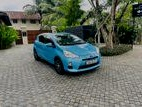car: (31, 29, 103, 76)
